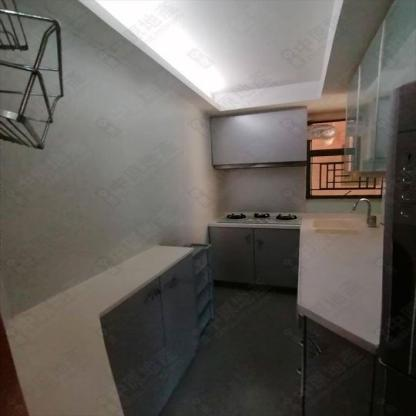Cupboard: (100, 254, 199, 411), (211, 226, 302, 290)
Exhaust Hood: (216, 160, 311, 169)
Faucet: (343, 197, 375, 228)
Sink: (311, 219, 361, 230)
Stove: (211, 213, 306, 225)
